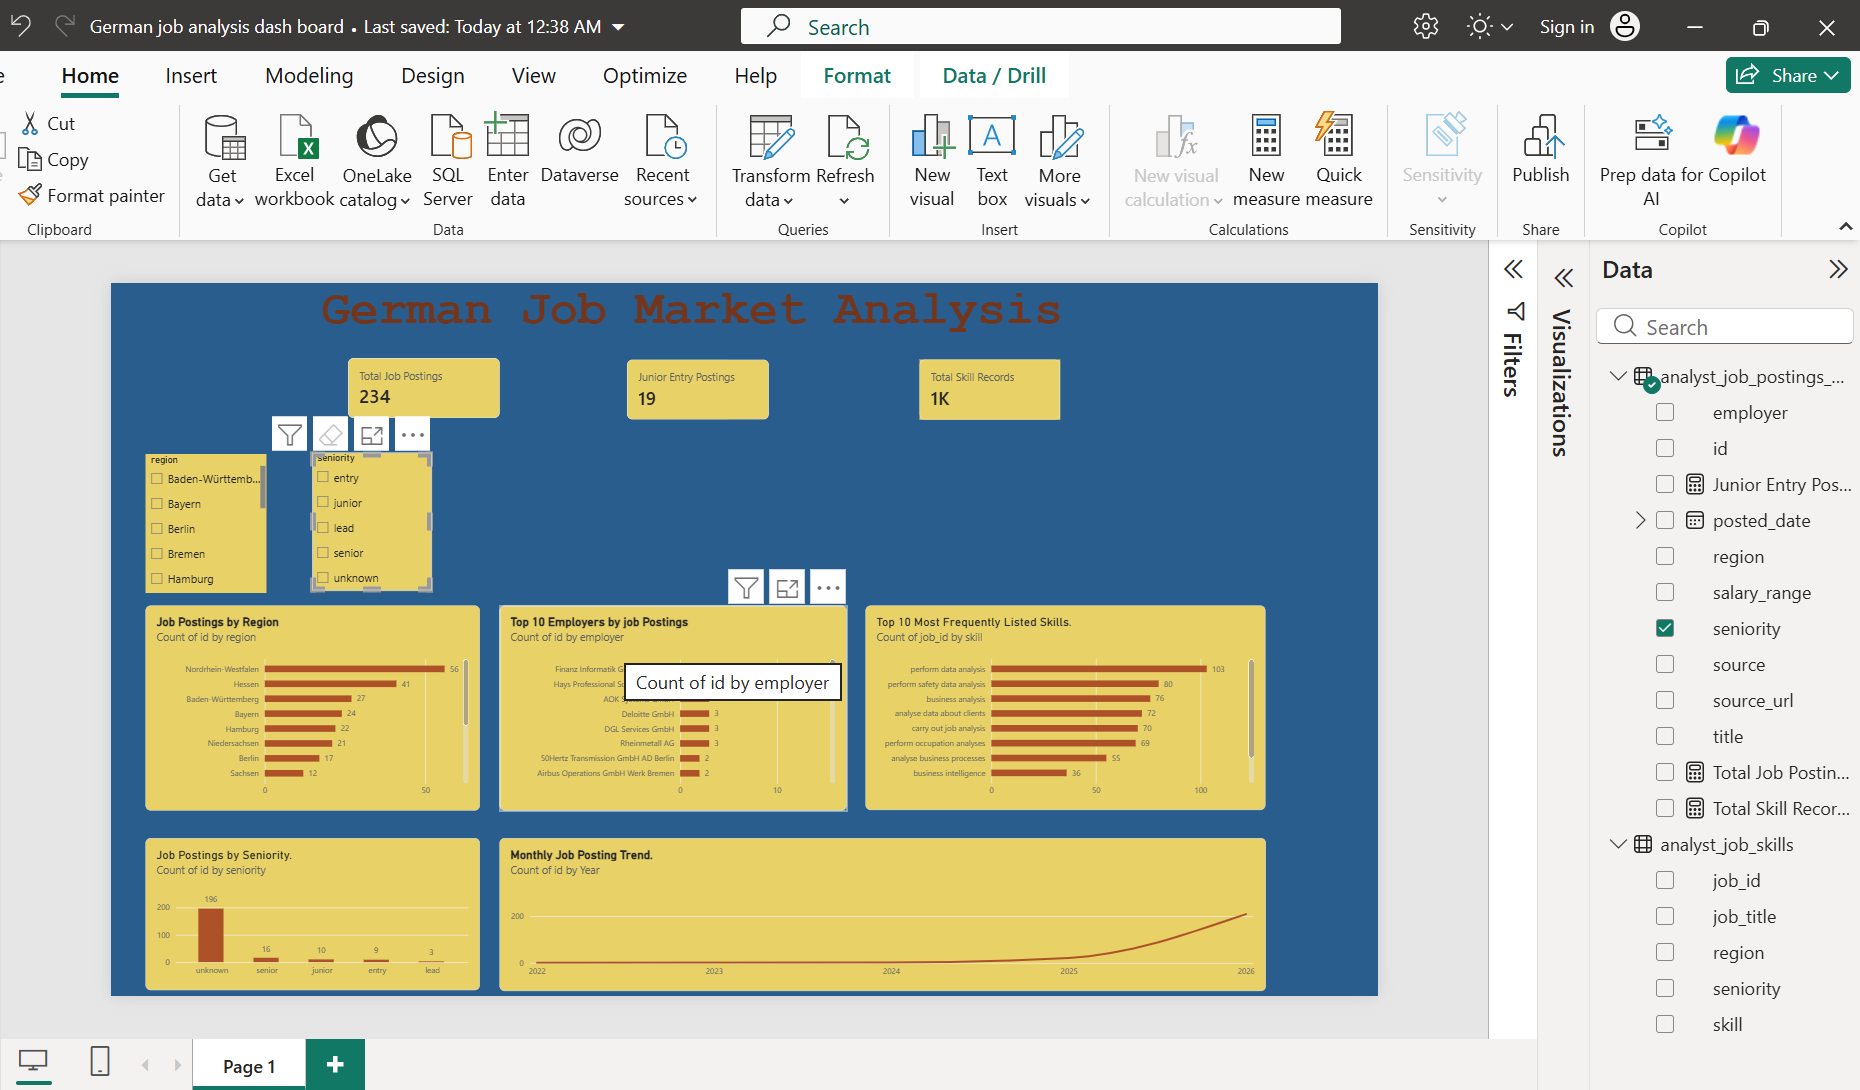

The page's visual inventory and layout, read from the dashboard file:
{"tool":"powerbi","page":{"name":"Page 1","canvas":[1920,1080],"ordinal":0},"visuals":[{"type":"textbox","box":[12.2,0,1737.6,113.5],"z":0},{"type":"cardVisual","fields":{"Data":["analyst_job_postings_clean.Total Job Postings"]},"box":[358.7,113,230.4,91.3],"z":1},{"type":"cardVisual","fields":{"Data":["analyst_job_postings_clean.Junior Entry Postings"]},"box":[782.6,115.2,215.2,91.3],"z":2},{"type":"cardVisual","fields":{"Data":["analyst_job_postings_clean.Total Skill Records"]},"box":[1223.9,115.2,213,91.3],"z":3},{"type":"clusteredBarChart","title":"Job Postings by Region","fields":{"Category":["analyst_job_postings_clean.region"],"Y":["CountNonNull(analyst_job_postings_clean.id)"]},"box":[13,489.1,506.5,310.9],"z":4},{"type":"clusteredBarChart","title":"Top 10  Employers by job Postings","fields":{"Category":["analyst_job_postings_clean.employer"],"Y":["CountNonNull(analyst_job_postings_clean.id)"]},"box":[543.5,489.1,526.1,310.9],"z":5},{"type":"clusteredColumnChart","title":"Job Postings by Seniority.","fields":{"Category":["analyst_job_postings_clean.seniority"],"Y":["CountNonNull(analyst_job_postings_clean.id)"]},"box":[13,841.3,506.5,230.4],"z":6},{"type":"lineChart","title":"Monthly Job Posting Trend.","fields":{"Category":["analyst_job_postings_clean.posted_date.Variation.Date Hierarchy.Year","analyst_job_postings_clean.posted_date.Variation.Date Hierarchy.Quarter","analyst_job_postings_clean.posted_date.Variation.Date Hierarchy.Month","analyst_job_postings_clean.posted_date.Variation.Date Hierarchy.Day"],"Y":["CountNonNull(analyst_job_postings_clean.id)"]},"box":[543.5,841.3,1180.4,230.4],"z":7},{"type":"clusteredBarChart","title":"Top 10 Most Frequently Listed Skills.","fields":{"Category":["analyst_job_skills.skill"],"Y":["CountNonNull(analyst_job_skills.job_id)"]},"box":[1117.4,489.1,606.2,310.2],"z":8},{"type":"slicer","fields":{"Values":["analyst_job_postings_clean.region"]},"box":[83.9,259.7,182.3,209.7],"z":9},{"type":"slicer","fields":{"Values":["analyst_job_postings_clean.seniority"]},"box":[359.7,259.7,182.3,209.7],"z":10}]}

Visuals, with their boxes on the page's 1920x1080 design canvas (x1, y1, x2, y2). These are canvas units, not pixel positions in the 1860x1090 screenshot, which may show the page scaled, cropped or inside an application window:
textbox: x1=12, y1=0, x2=1750, y2=114
cardVisual - analyst_job_postings_clean.Total Job Postings: x1=359, y1=113, x2=589, y2=204
cardVisual - analyst_job_postings_clean.Junior Entry Postings: x1=783, y1=115, x2=998, y2=206
cardVisual - analyst_job_postings_clean.Total Skill Records: x1=1224, y1=115, x2=1437, y2=206
"Job Postings by Region" clusteredBarChart: x1=13, y1=489, x2=520, y2=800
"Top 10  Employers by job Postings" clusteredBarChart: x1=544, y1=489, x2=1070, y2=800
"Job Postings by Seniority." clusteredColumnChart: x1=13, y1=841, x2=520, y2=1072
"Monthly Job Posting Trend." lineChart: x1=544, y1=841, x2=1724, y2=1072
"Top 10 Most Frequently Listed Skills." clusteredBarChart: x1=1117, y1=489, x2=1724, y2=799
slicer - analyst_job_postings_clean.region: x1=84, y1=260, x2=266, y2=469
slicer - analyst_job_postings_clean.seniority: x1=360, y1=260, x2=542, y2=469
